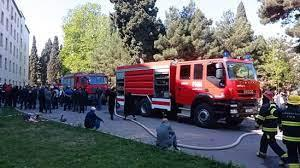Fire-engine: (114, 65, 270, 107)
